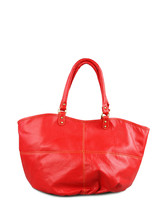bag: (10, 55, 151, 197)
